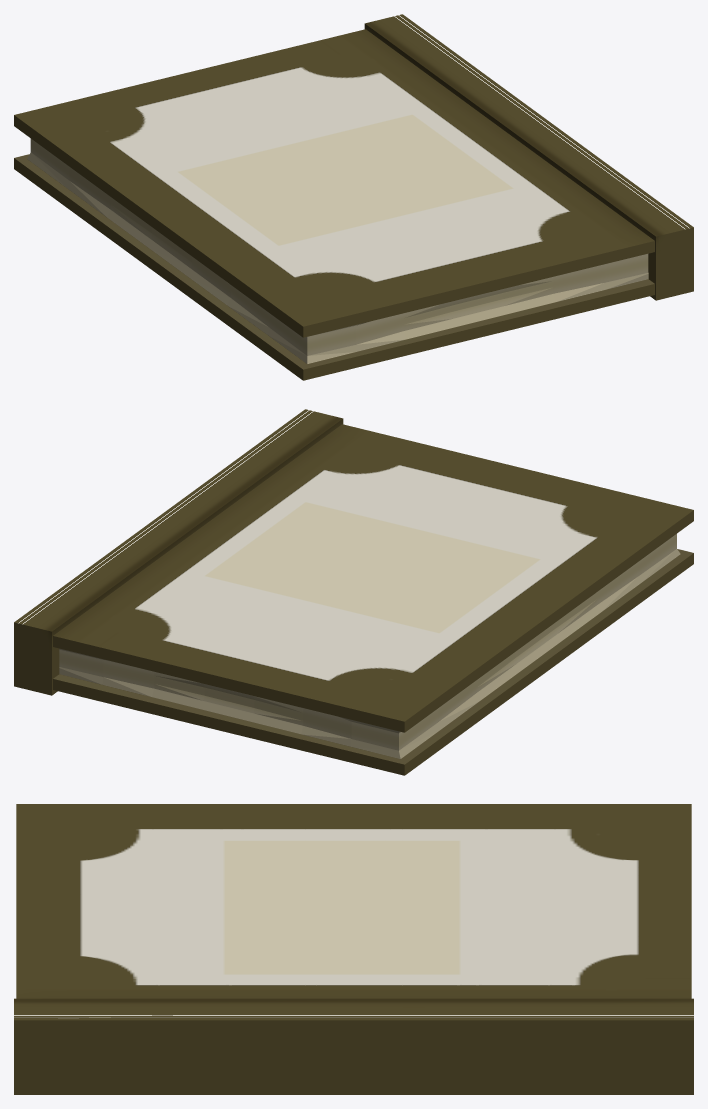
File: book.obj
3 views of the same model, one above another, from view 1: azimuth 30°, elevation 25°; view 2: azimuth 150°, elevation 25°; view 3: azimuth 270°, elevation 25° (orthographic). The views are drawn at different scales.
Visible parts, largest first — view 1: 立方体.001; view 2: 立方体.001; view 3: 立方体.001.
Boxes of the visible parts, bbox=[...] form: 立方体.001: bbox=[14, 14, 693, 380]; 立方体.001: bbox=[14, 409, 693, 775]; 立方体.001: bbox=[14, 804, 693, 1094].
Bounding box in the file's own units: 4.39 × 0.6886 × 5.68.
